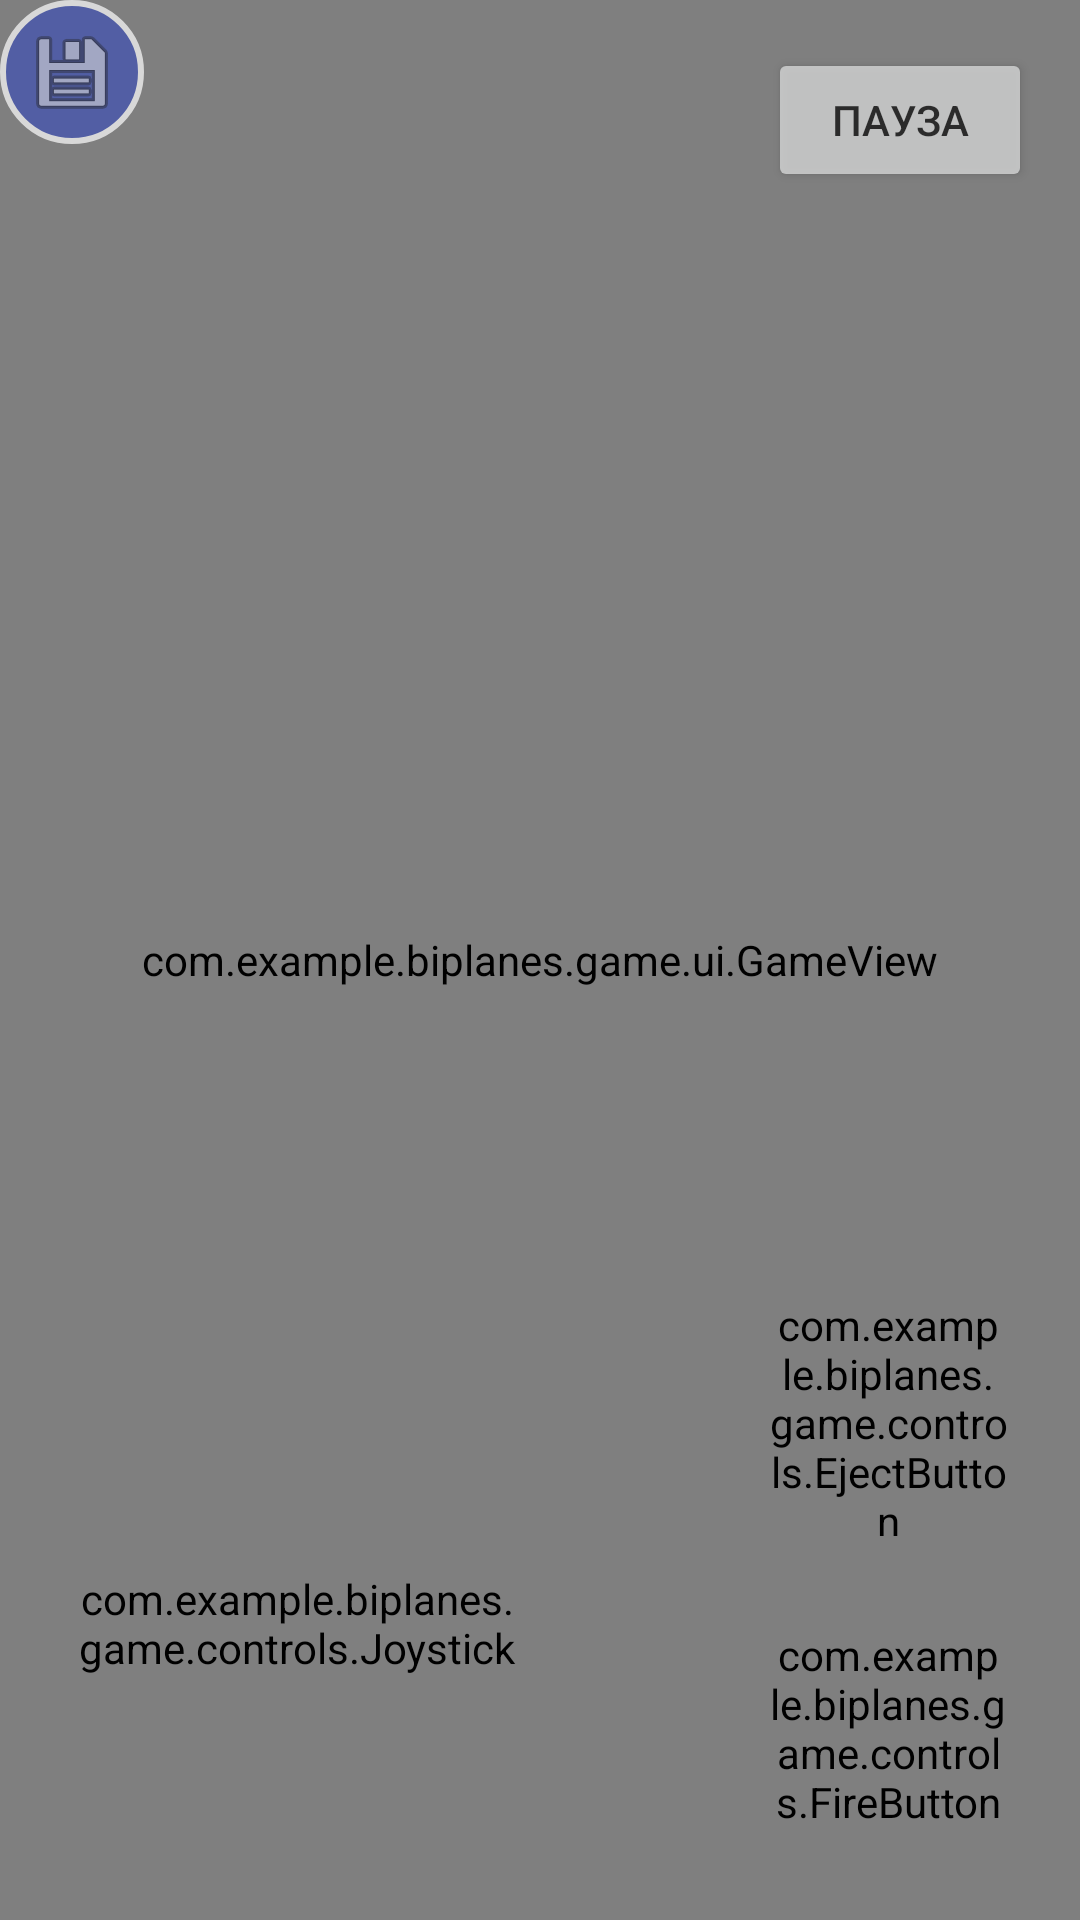

Icon click points for this 1080w x 1920h phone screenshot, format (x,y):
Сохранить логи: (72,72)
